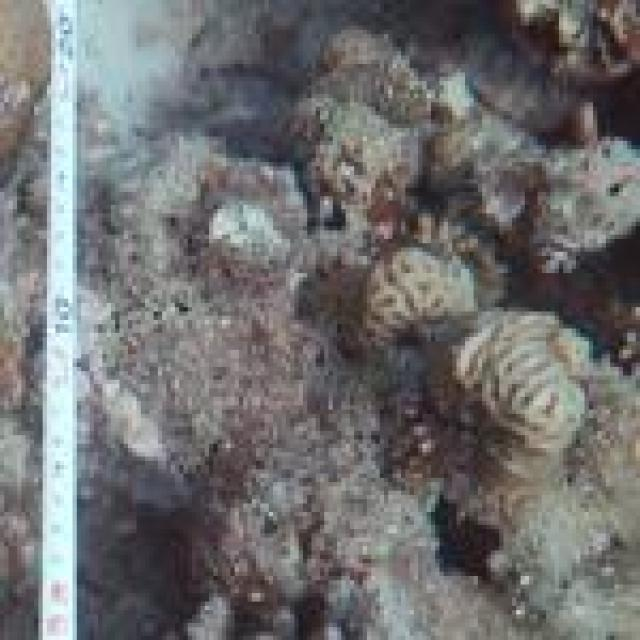Bleached Coral: (345, 239, 640, 489)
